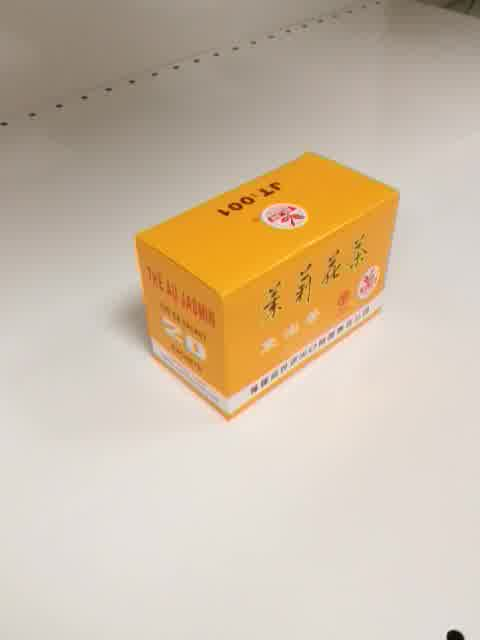jasminetea: (134, 146, 401, 422)
